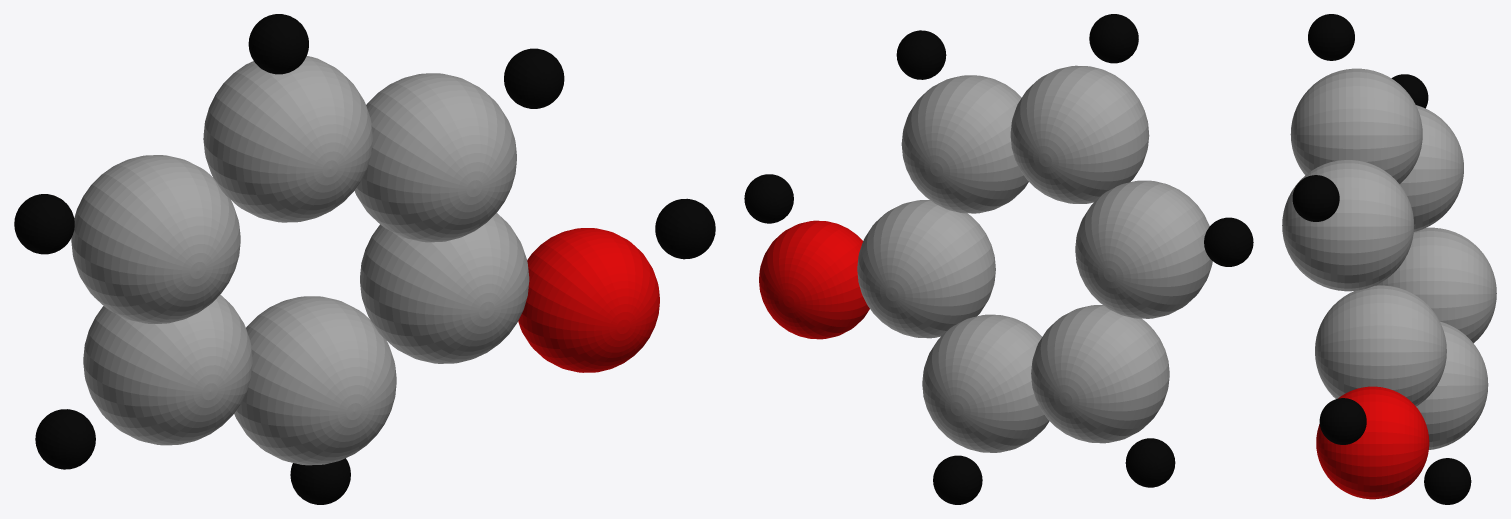
File: Phenol.glb
The picture shows the model from 3 angles, left to right: view 1: azimuth 30°, elevation 25°; view 2: azimuth 150°, elevation 25°; view 3: azimuth 270°, elevation 25°; orthographic projection. The views are drawn at different scales.
Visible parts, largest first — view 1: world; view 2: world; view 3: world.
Part boxes in pixels (left/top/right/bottom): world: left=14, top=14, right=715, bottom=504; world: left=744, top=14, right=1253, bottom=504; world: left=1282, top=14, right=1496, bottom=504.
Size of the model in its own units: 6.23 by 5.17 by 2.28.
